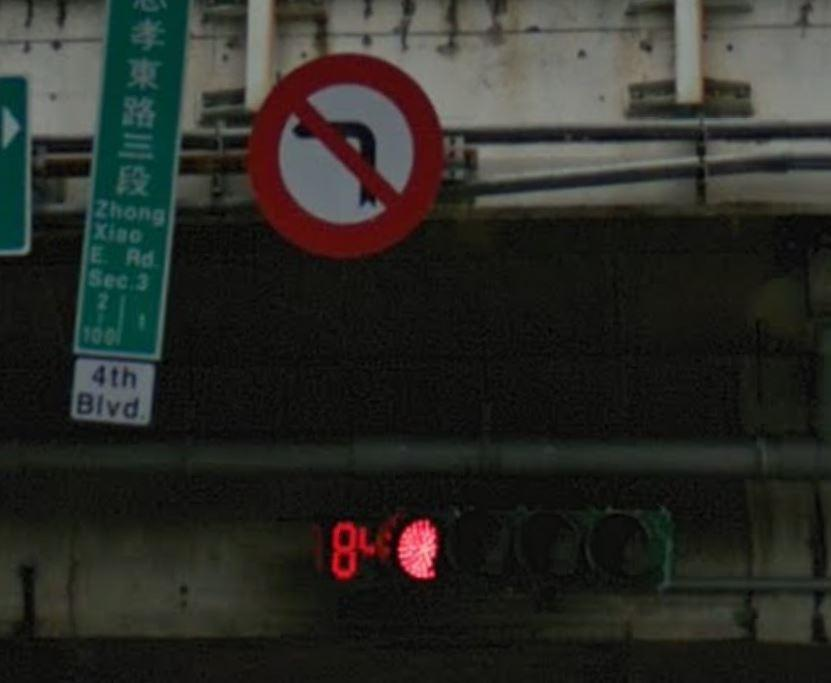no_left_turn: (243, 52, 442, 258)
red_traffic_light: (317, 505, 671, 590)
